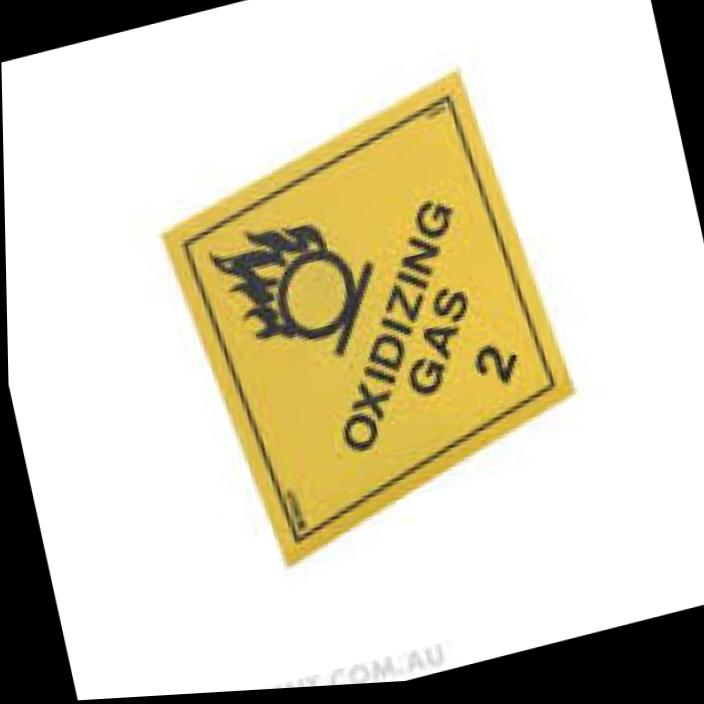defibrillator: (165, 72, 568, 560)
